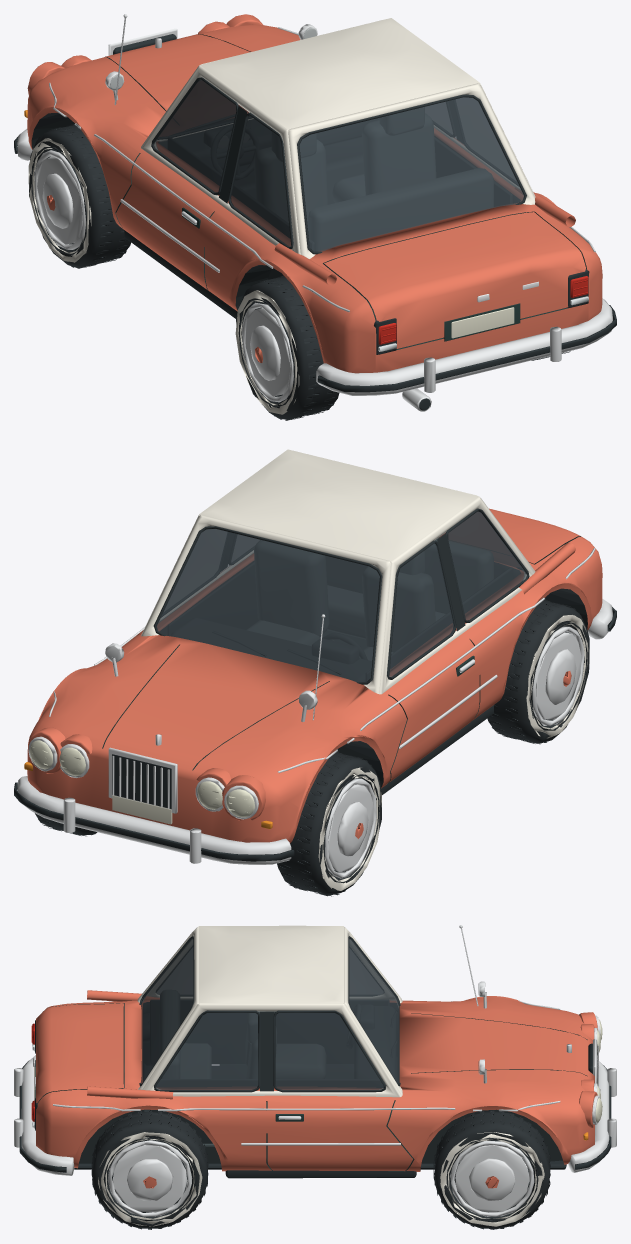
File: ritz_lod2.fbx
3 views of the same model, one above another, from view 1: azimuth 30°, elevation 25°; view 2: azimuth 150°, elevation 25°; view 3: azimuth 270°, elevation 25° (orthographic). The views are drawn at different scales.
Parts seen in each view (by area): view 1: Body, Wheel_FL_Mesh, Wheel_RL_Mesh; view 2: Body, Wheel_FL_Mesh, Wheel_RL_Mesh; view 3: Body, Wheel_FR_Mesh, Wheel_RR_Mesh.
Boxes of the visible parts, x1,y1,x2,y2 form: Body: (14,14,616,411); Wheel_FL_Mesh: (28,124,130,268); Wheel_RL_Mesh: (235,275,339,420); Body: (14,449,616,864); Wheel_FL_Mesh: (277,752,381,896); Wheel_RL_Mesh: (487,600,589,744); Body: (14,925,616,1178); Wheel_FR_Mesh: (433,1110,550,1229); Wheel_RR_Mesh: (91,1110,208,1229).
Bounding box in the file's own units: 206 × 168 × 423.
